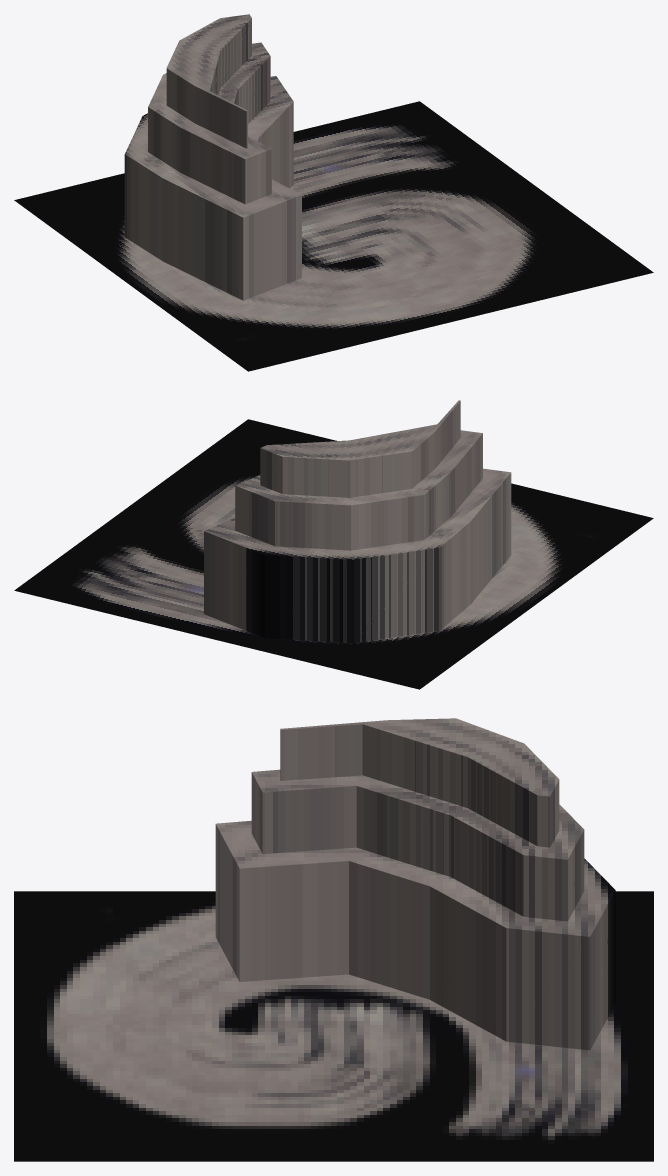
3 views of the same model, one above another, from view 1: azimuth 30°, elevation 25°; view 2: azimuth 150°, elevation 25°; view 3: azimuth 270°, elevation 25° (orthographic). The views are drawn at different scales.
Visible parts, largest first — view 1: Plane; view 2: Plane; view 3: Plane.
Part boxes in pixels (x1,y1,x2,y2): Plane: (14,14,653,371); Plane: (14,400,653,689); Plane: (14,718,653,1161).
Size of the model in its own units: 6.98 by 2.72 by 6.98.
Materials: 1 (1 with a texture image).
